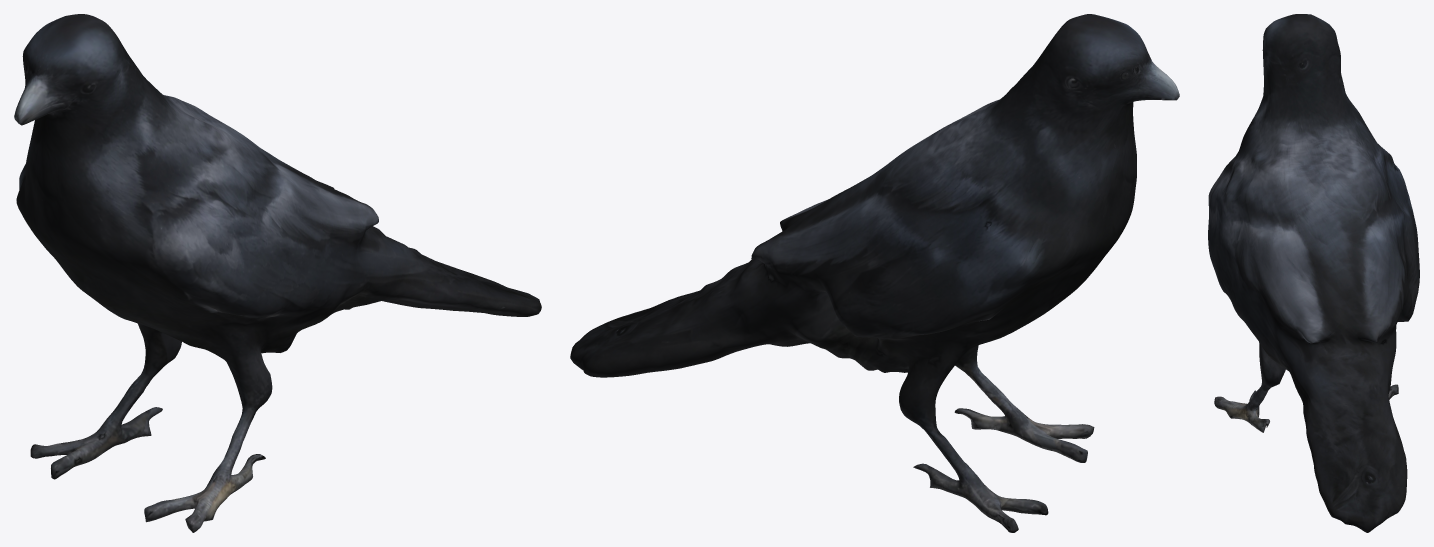
File: crow.glb
3 views of the same model, side by side, from view 1: azimuth 30°, elevation 25°; view 2: azimuth 150°, elevation 25°; view 3: azimuth 270°, elevation 25° (orthographic). The views are drawn at different scales.
Size of the model in its own units: 1.2 by 0.9897 by 0.5135.
1 material, 1 textured.
